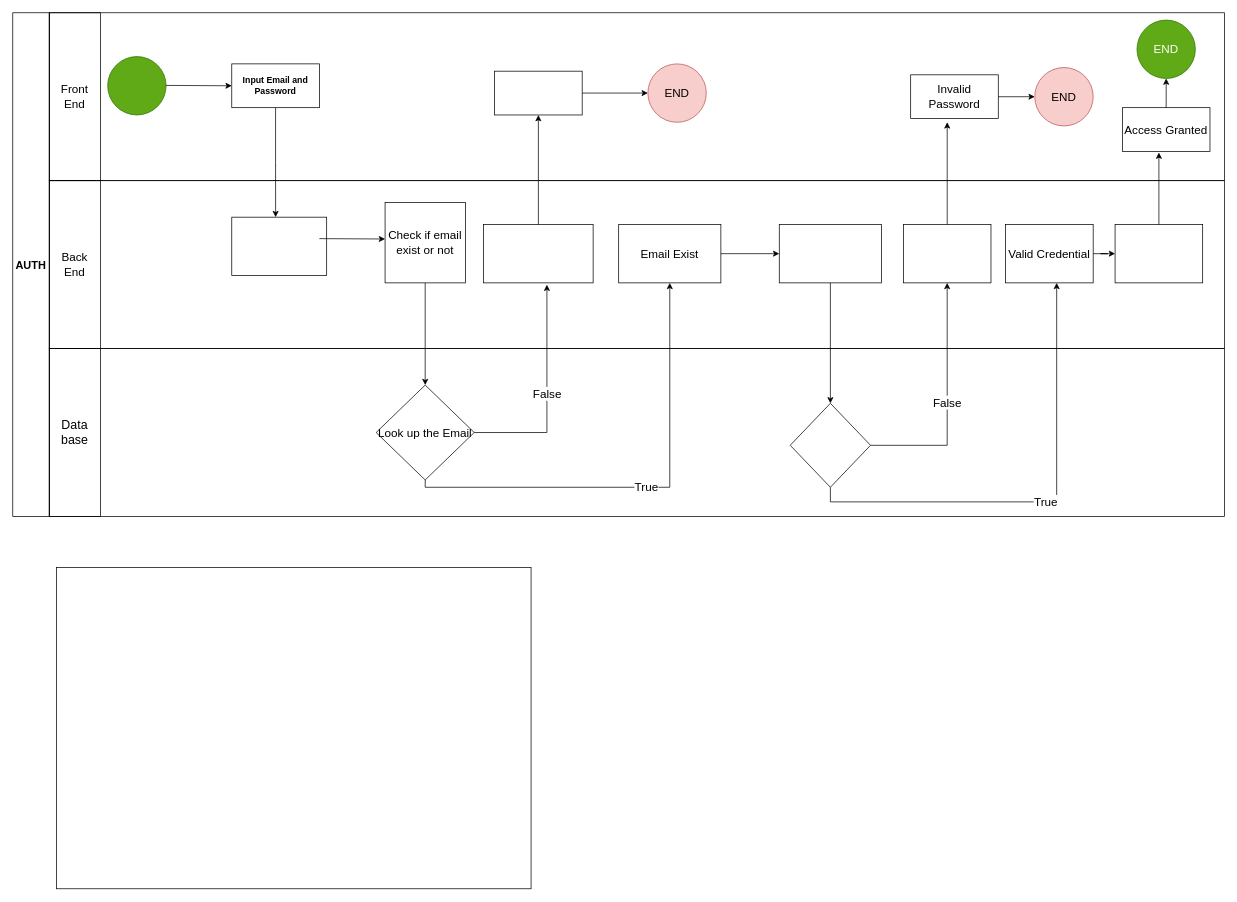
Some shapes in this 1237 by 902 pixel diagram are drawn without their labels. The shapes that lost their labels are listed below. From the top down, each one's box as (x1, y1, x2, y2) in pixels, then its label:
(494, 70, 582, 115): Invalid Credentials
(231, 216, 327, 276): Validate the format of the request
(483, 224, 593, 283): Email doesn't exist
(779, 224, 881, 283): Validate the Email / Password Combination
(903, 224, 991, 283): Invalid Combination
(1114, 224, 1203, 283): Create a JWT token based on Credentials
(789, 403, 871, 487): Lookup the Email
